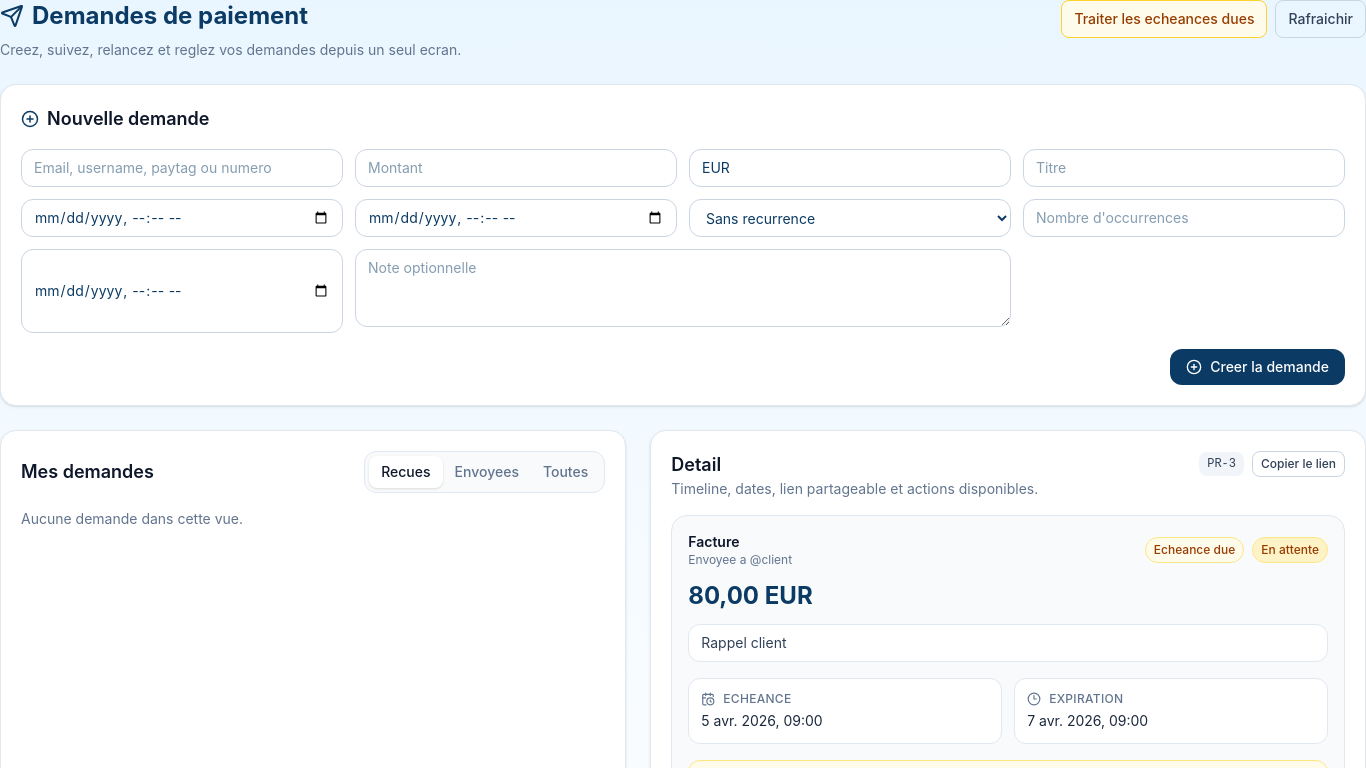
PaymentPage › runs due maintenance for sent requests
Expected: the text "Echeance due" is shown, [1145,537,1244,563]
Step 1. Click the button "Traiter les echeances dues" → coordinates (1164, 19), box [1061,0,1268,38]
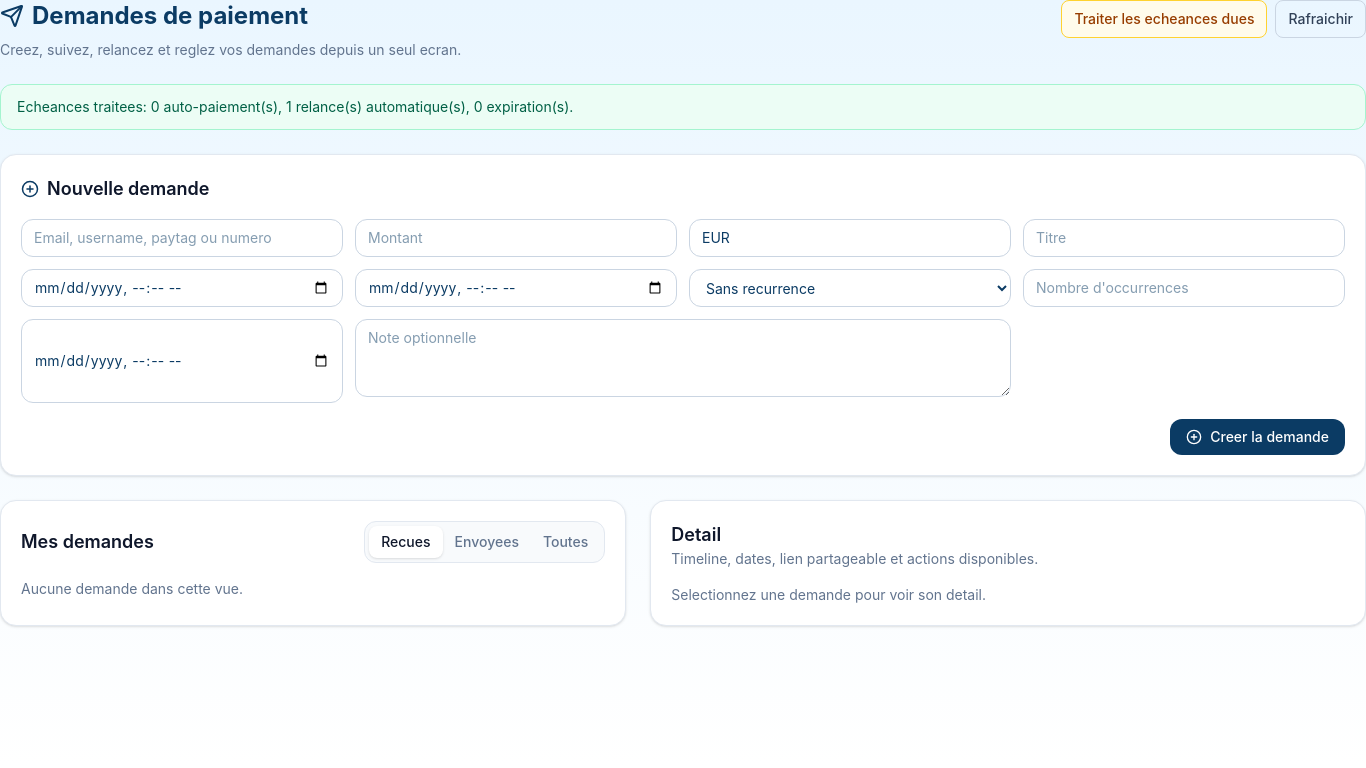
Expected: the text "Echeances traitees: 0 auto-paiement(s), 1 relance(s) automatique(s), 0 expiration(s)." is shown, [17,98,573,115]
